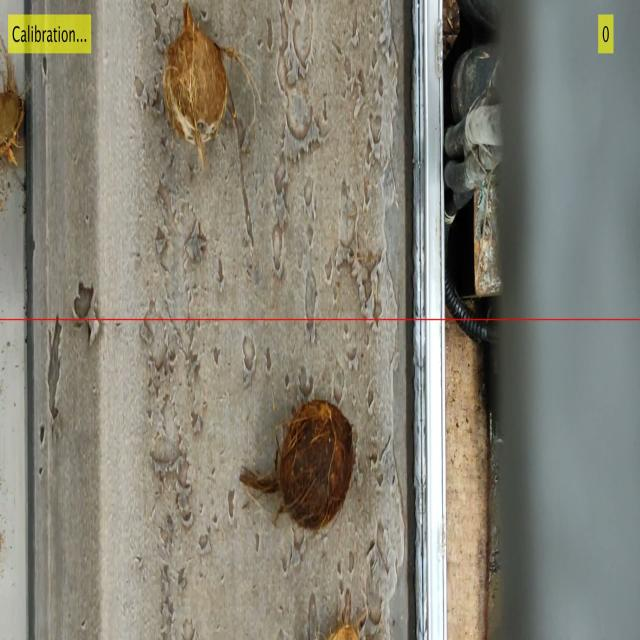Coconut-Conveyor-Belt: (238, 393, 354, 534), (157, 12, 233, 157)
